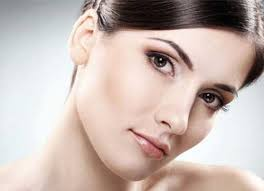n.sharp: (162, 77, 191, 136)
